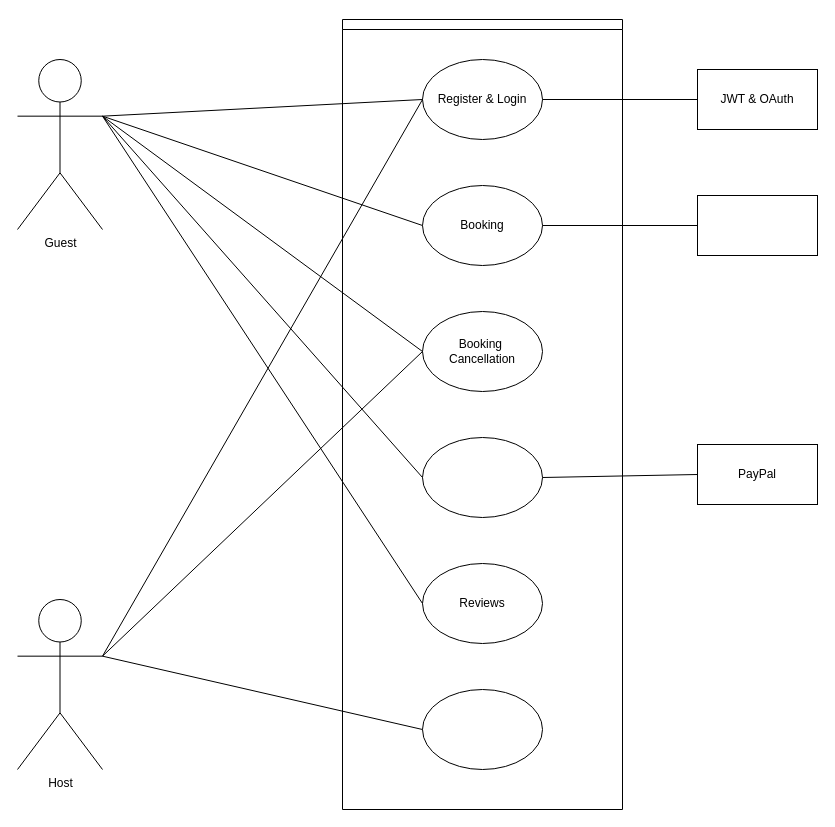
The diagram is 835 pixels wide and 827 high, and some of its shapes have lost their labels. Each missing label, with the box of its shape:
AirBnB Clone: (342, 18, 622, 810)
Date validity: (696, 194, 818, 256)
Payments: (422, 436, 542, 518)
Review responses: (422, 688, 542, 770)
